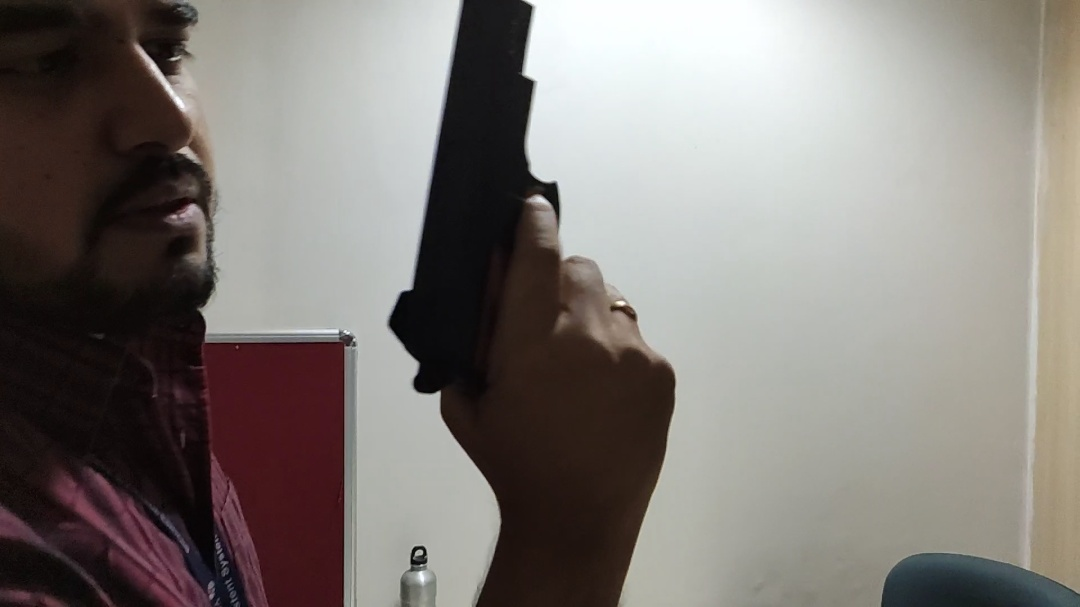gun: (370, 1, 679, 418)
